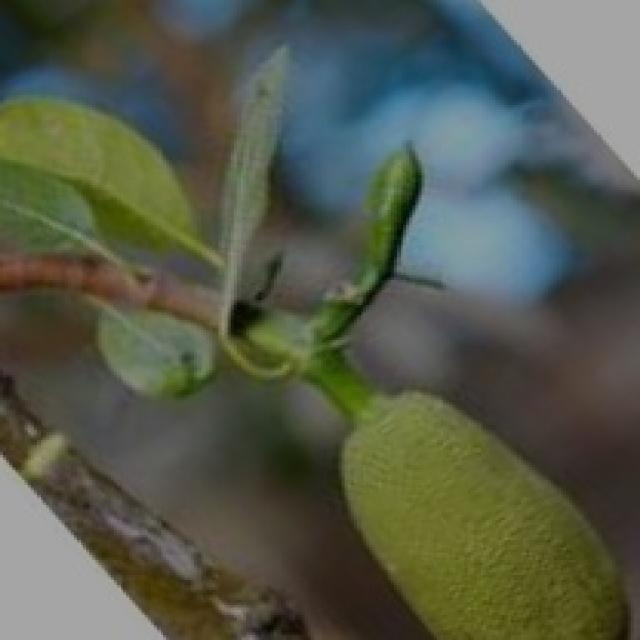Fruit: (295, 347, 636, 640)
